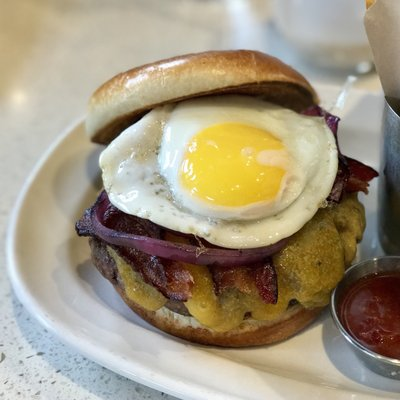soup: (74, 45, 375, 348)
sushi: (330, 255, 400, 381)
